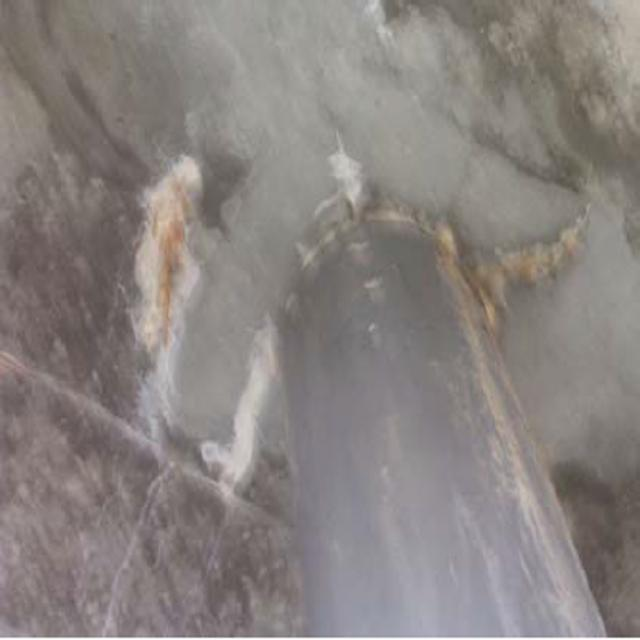freelime: (459, 156, 607, 348), (127, 126, 200, 414), (214, 322, 293, 497), (304, 144, 393, 223)
